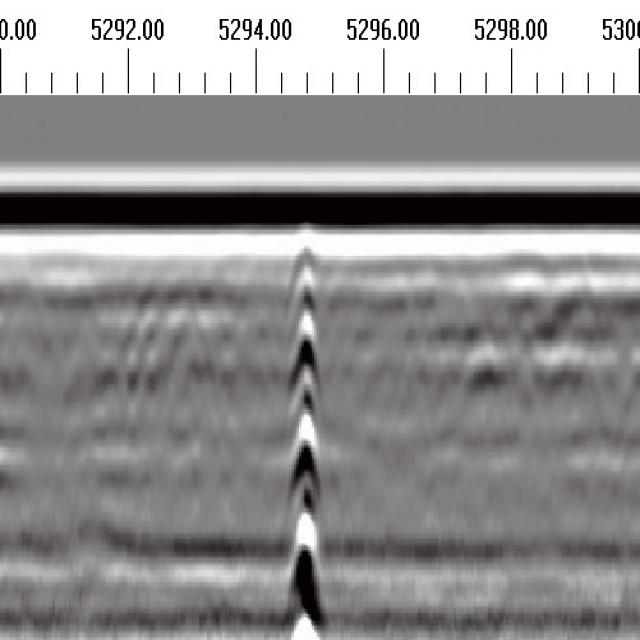crack: (289, 223, 325, 640)
